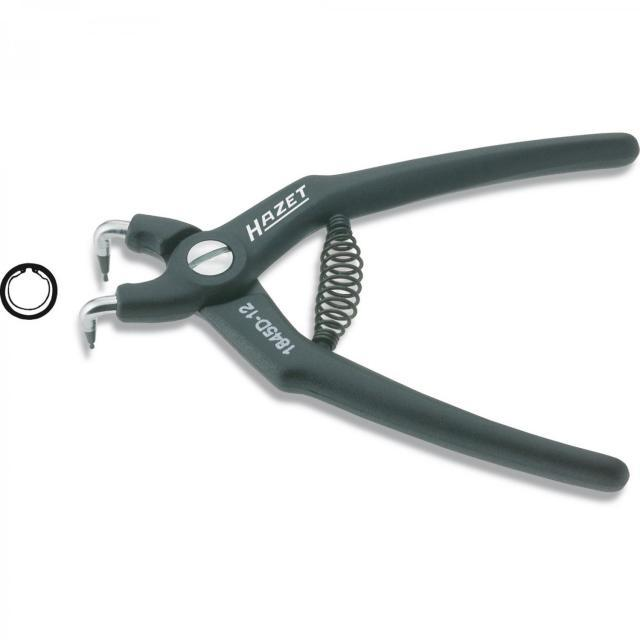pliers: (67, 125, 640, 502)
